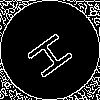H: (25, 25, 83, 81)
